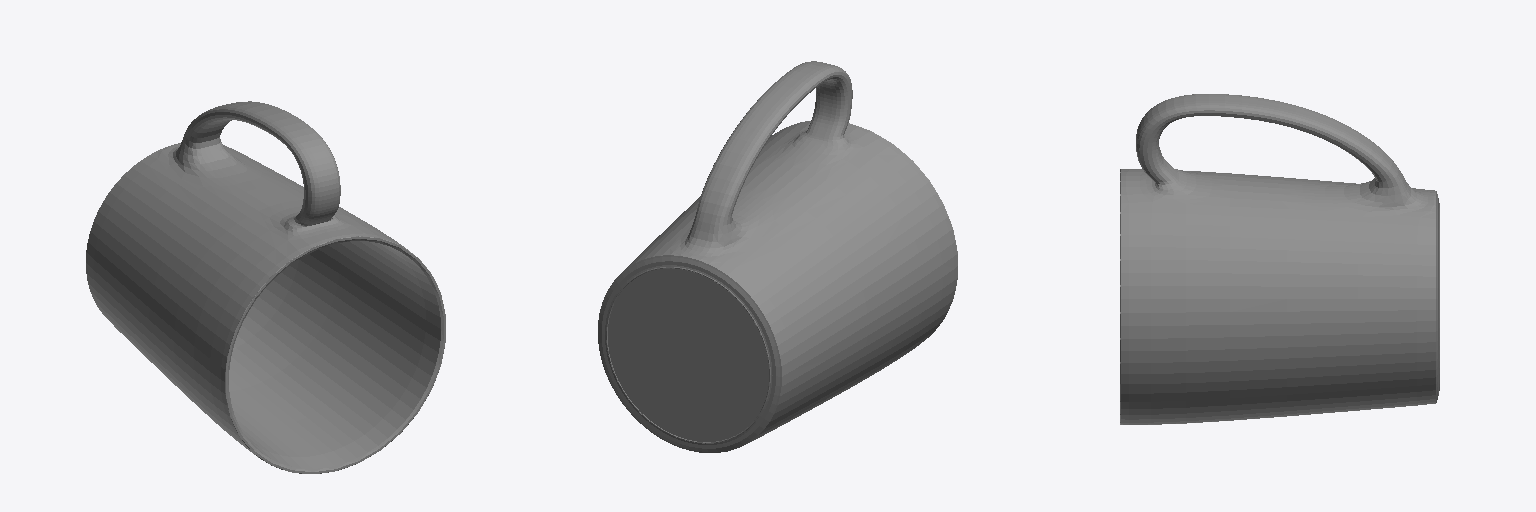
The picture shows the model from 3 angles: view 1: azimuth 30°, elevation 25°; view 2: azimuth 150°, elevation 25°; view 3: azimuth 270°, elevation 25°; orthographic projection.
Visible parts, largest first — view 1: g Cup; view 2: g Cup; view 3: g Cup.
Part boxes in pixels (x1,y1,x2,y2): g Cup: (86, 101, 445, 473); g Cup: (598, 61, 957, 452); g Cup: (1120, 94, 1439, 424).
Size of the model in its own units: 0.0886 by 0.12 by 0.1104.